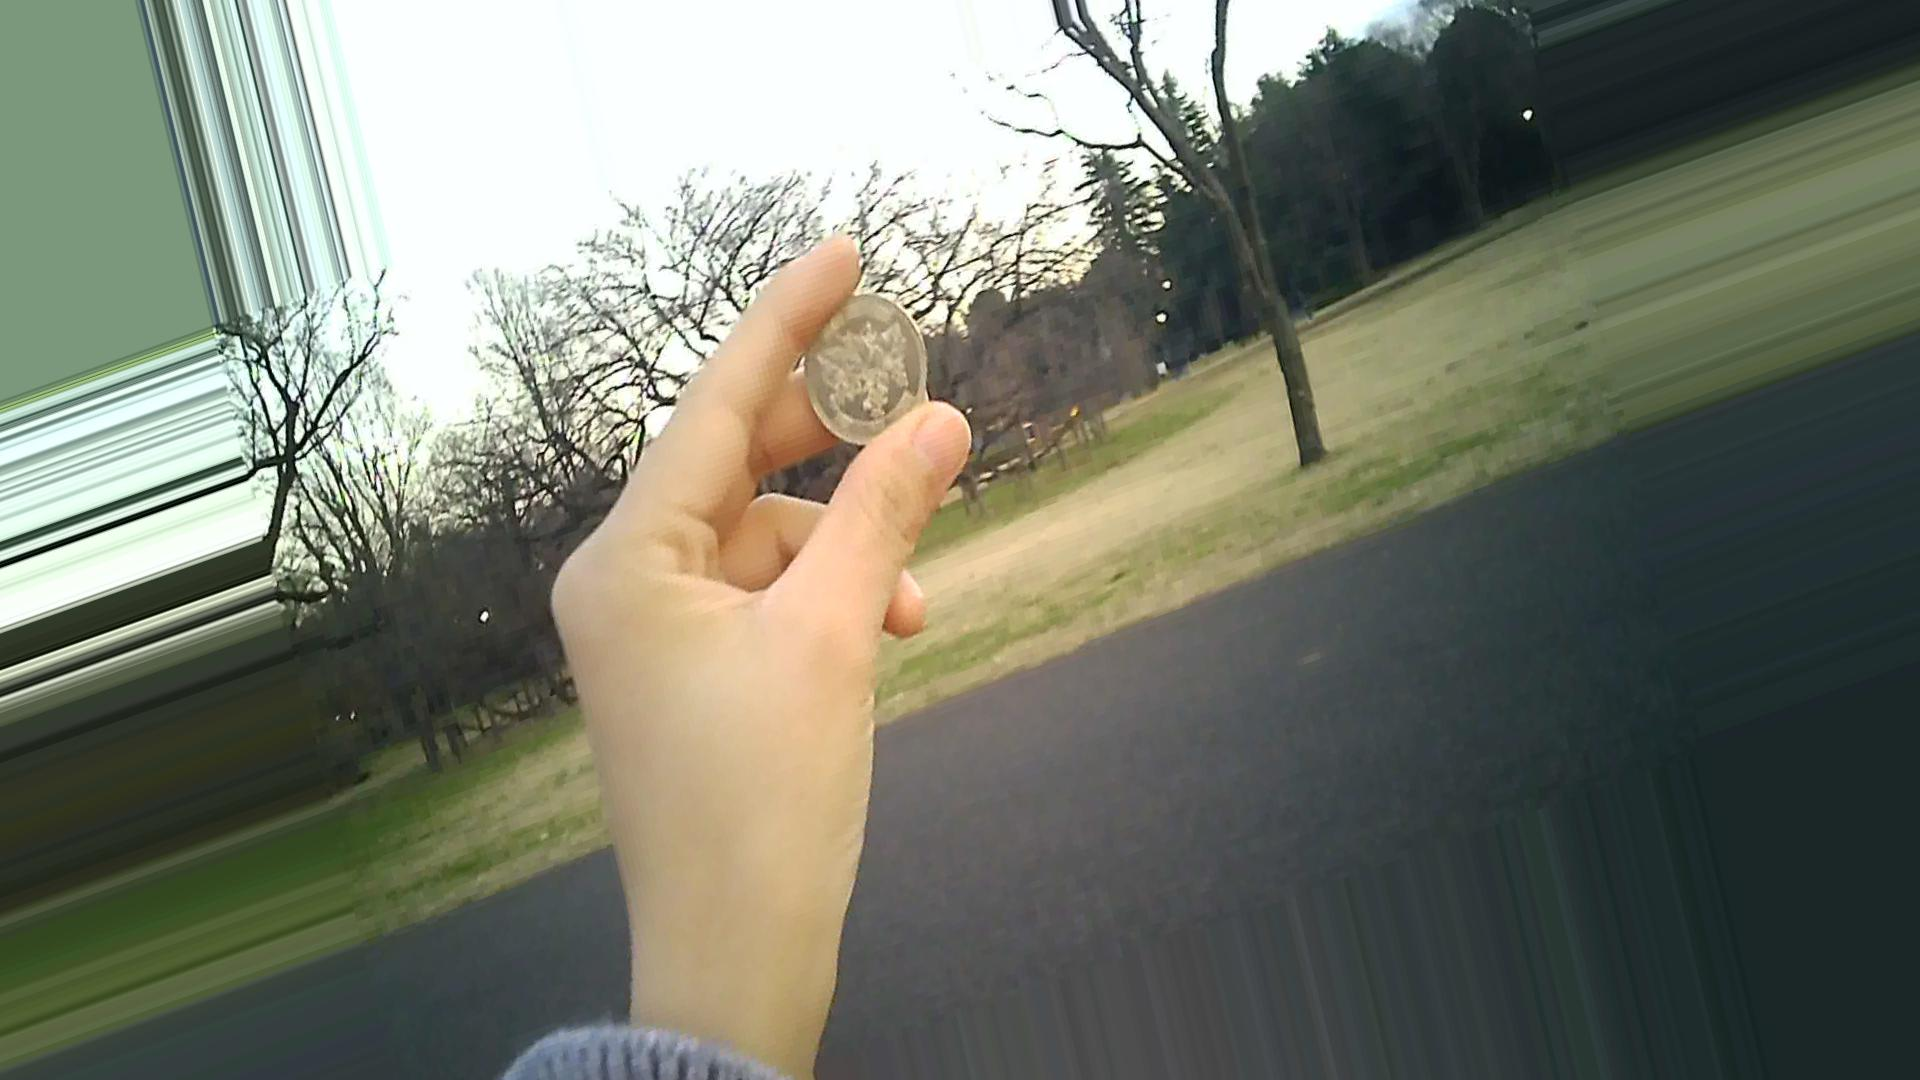500 Yen: (793, 280, 934, 444)
